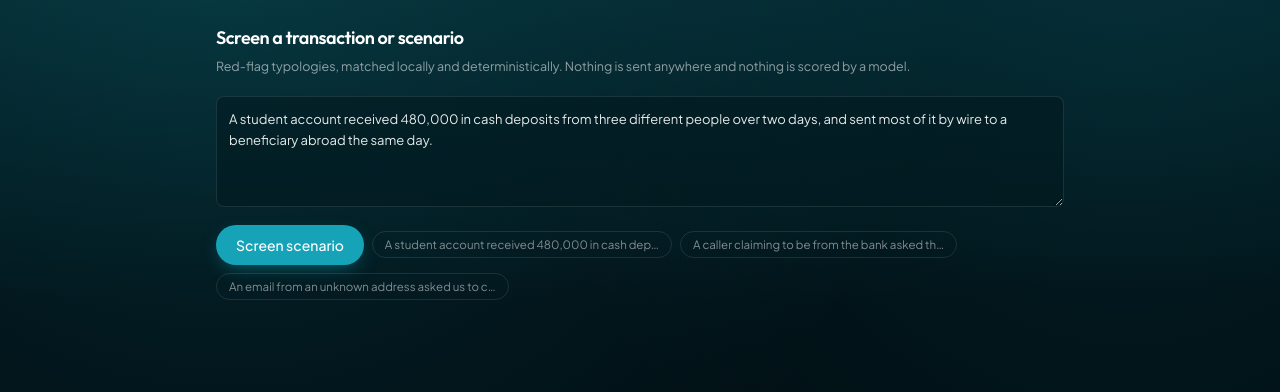
Test: FraudRisk › surfaces a server error instead of pretending the screen was clean
Replace the text in the text box named "scenario" with "boom" at x=640, y=152, box [216,96,1064,207]
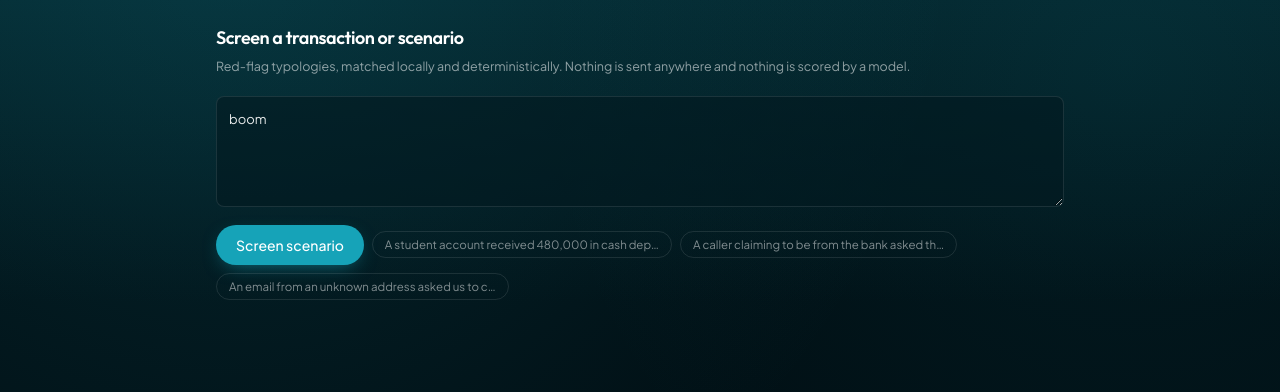
Click the button "Screen scenario".
click(290, 245)  # box [216,225,364,265]
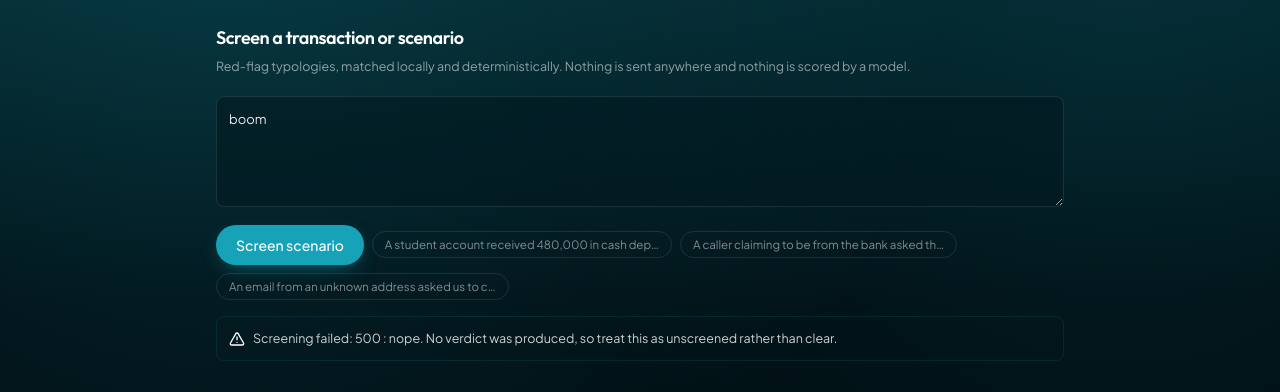
Expected: the message is shown, [216,316,1064,361]
